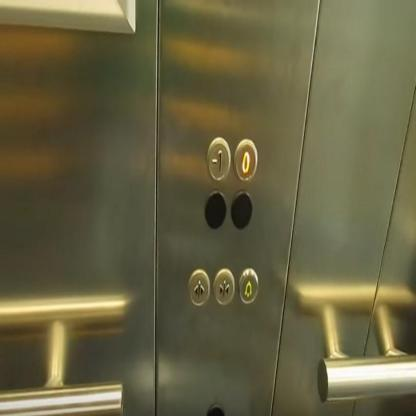-1: (206, 135, 231, 182)
0: (232, 137, 258, 182)
alarm: (237, 266, 259, 305)
close: (213, 266, 235, 307)
empty: (229, 188, 253, 231), (204, 188, 226, 230)
open: (188, 266, 210, 307)
